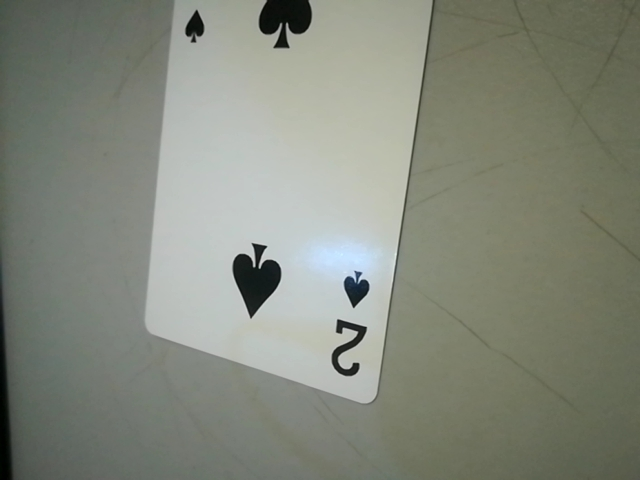ht 2: (316, 254, 384, 392)
